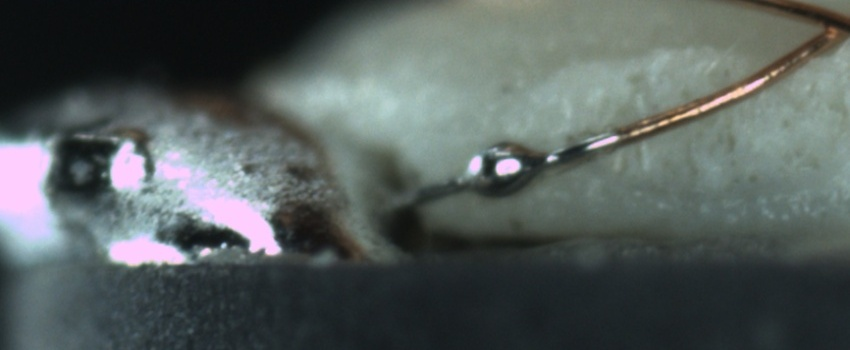CL: (793, 3, 850, 56)
DL: (637, 29, 850, 83)
TB: (460, 135, 542, 202)
TS: (374, 128, 618, 220)
TTCW: (382, 110, 669, 218)
